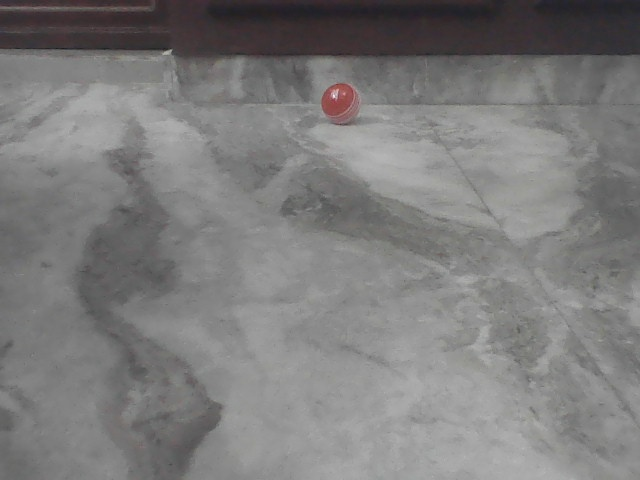cricket_ball: (321, 81, 364, 127)
